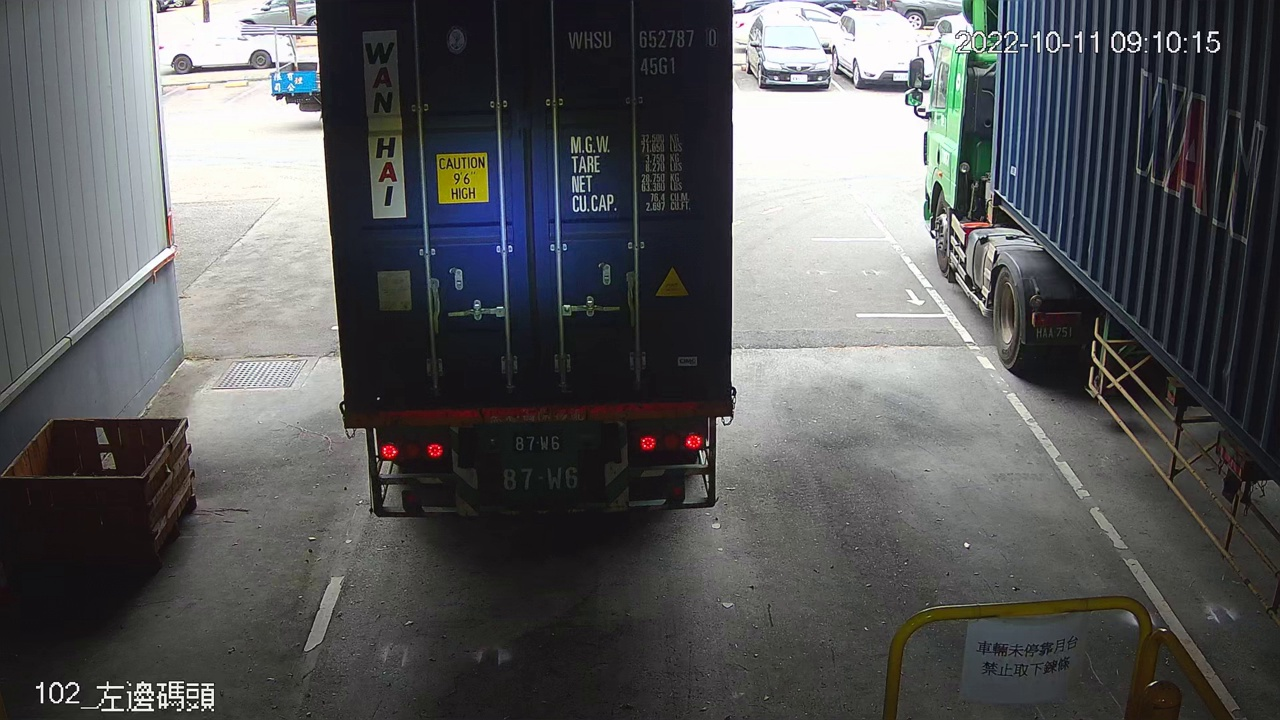container: (561, 20, 724, 84)
